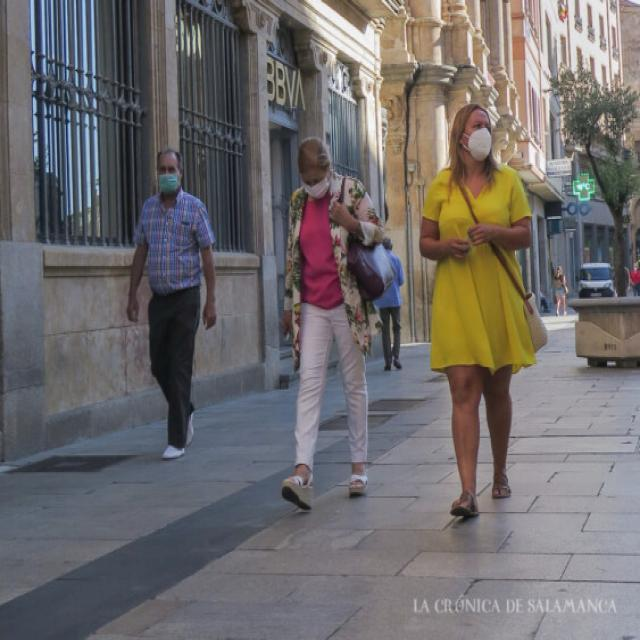person: (406, 99, 582, 539), (259, 113, 401, 526), (114, 132, 222, 470), (372, 237, 408, 376), (548, 254, 571, 322)
